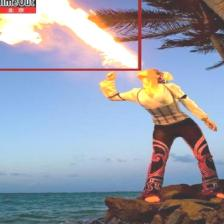fire: (0, 0, 140, 70)
